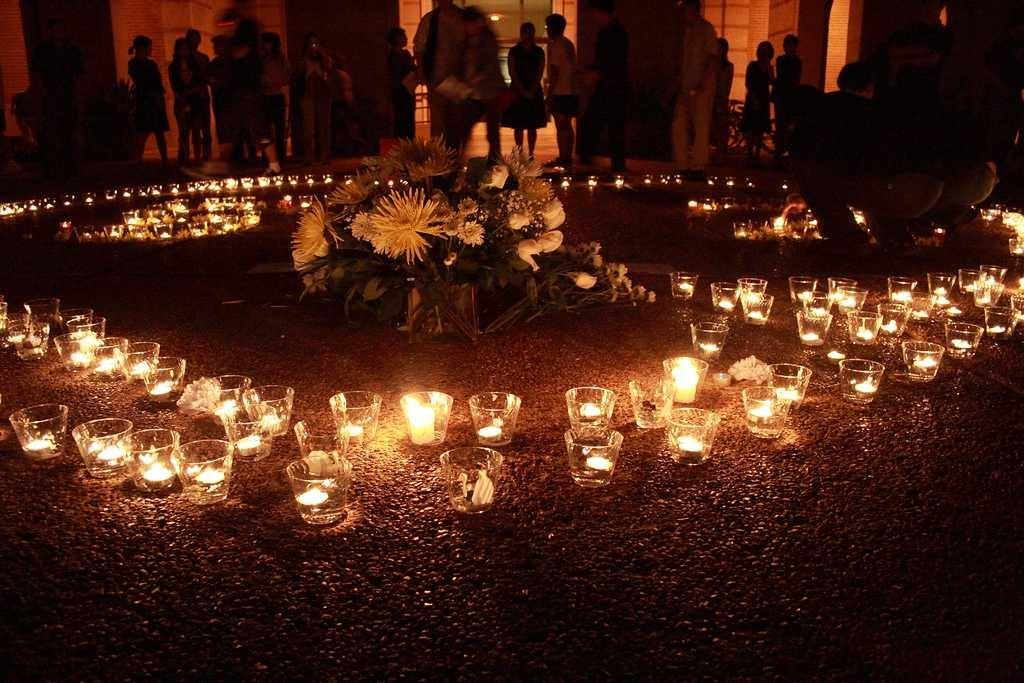fire: (398, 388, 447, 439), (294, 484, 347, 517), (182, 455, 234, 488), (578, 450, 630, 483), (669, 349, 702, 400), (471, 409, 526, 439), (765, 375, 811, 409), (678, 423, 712, 465), (583, 447, 624, 478), (744, 398, 780, 432), (564, 400, 608, 426), (837, 380, 882, 403)
